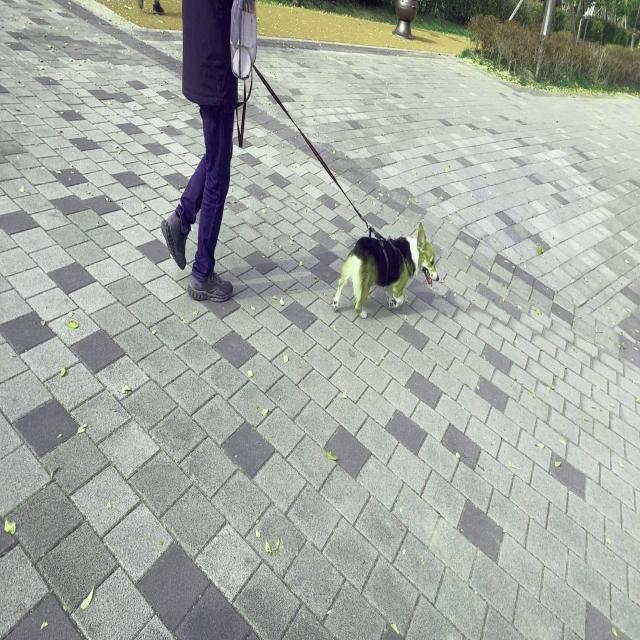Leashed_Dog: (205, 25, 439, 319)
